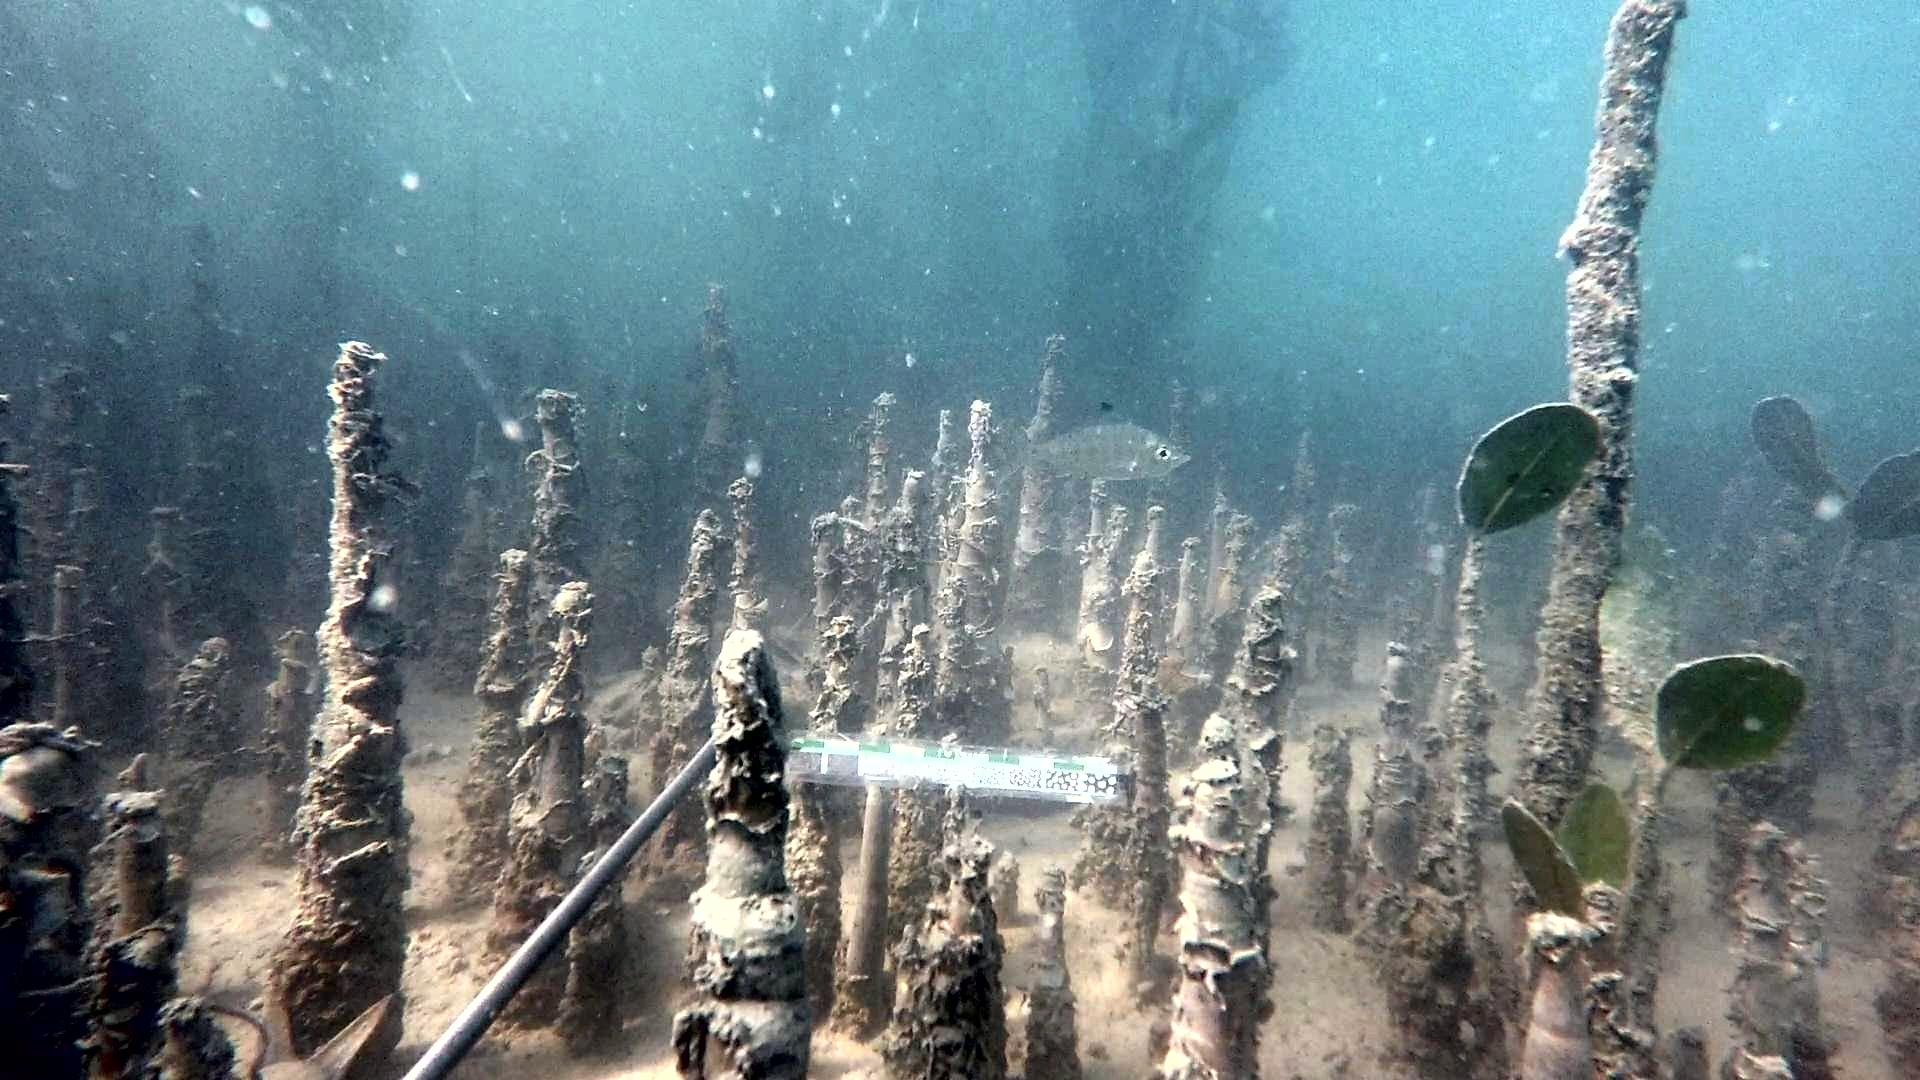gerres: (993, 400, 1192, 491)
